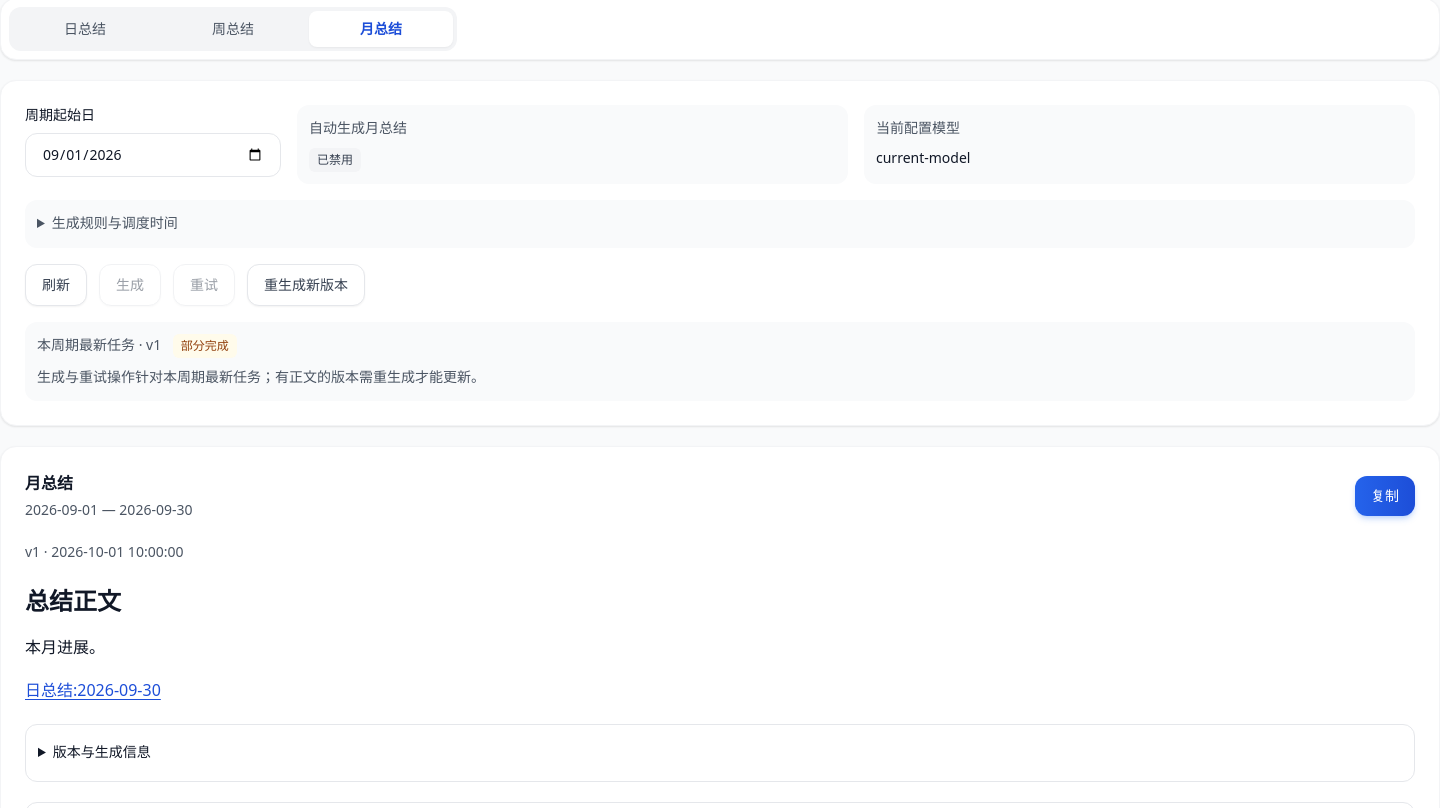
Scenario: Period report reading order › continues to read a frozen source from a validated Markdown reference
This screenshot has width=1440, height=808.
What coordinates should you click on to do the following:
click the link with id "frozen-source-2026-09-30"
I would click on:
 (93, 690)
Its box is [25,679,161,701].
(page scrolled)
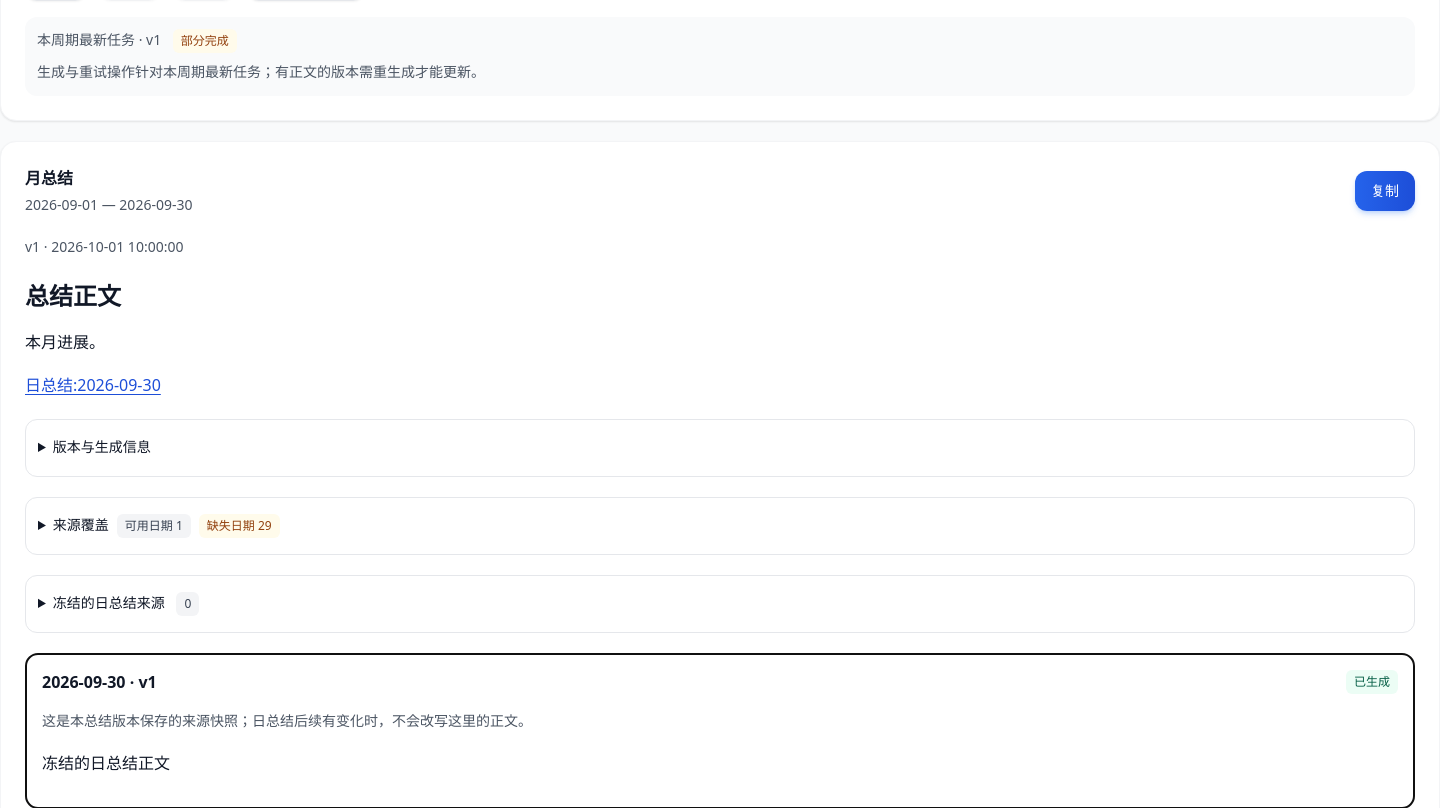
Check: the element with class "report-source-detail" shows "冻结的日总结正文", box [42,752,170,774]
